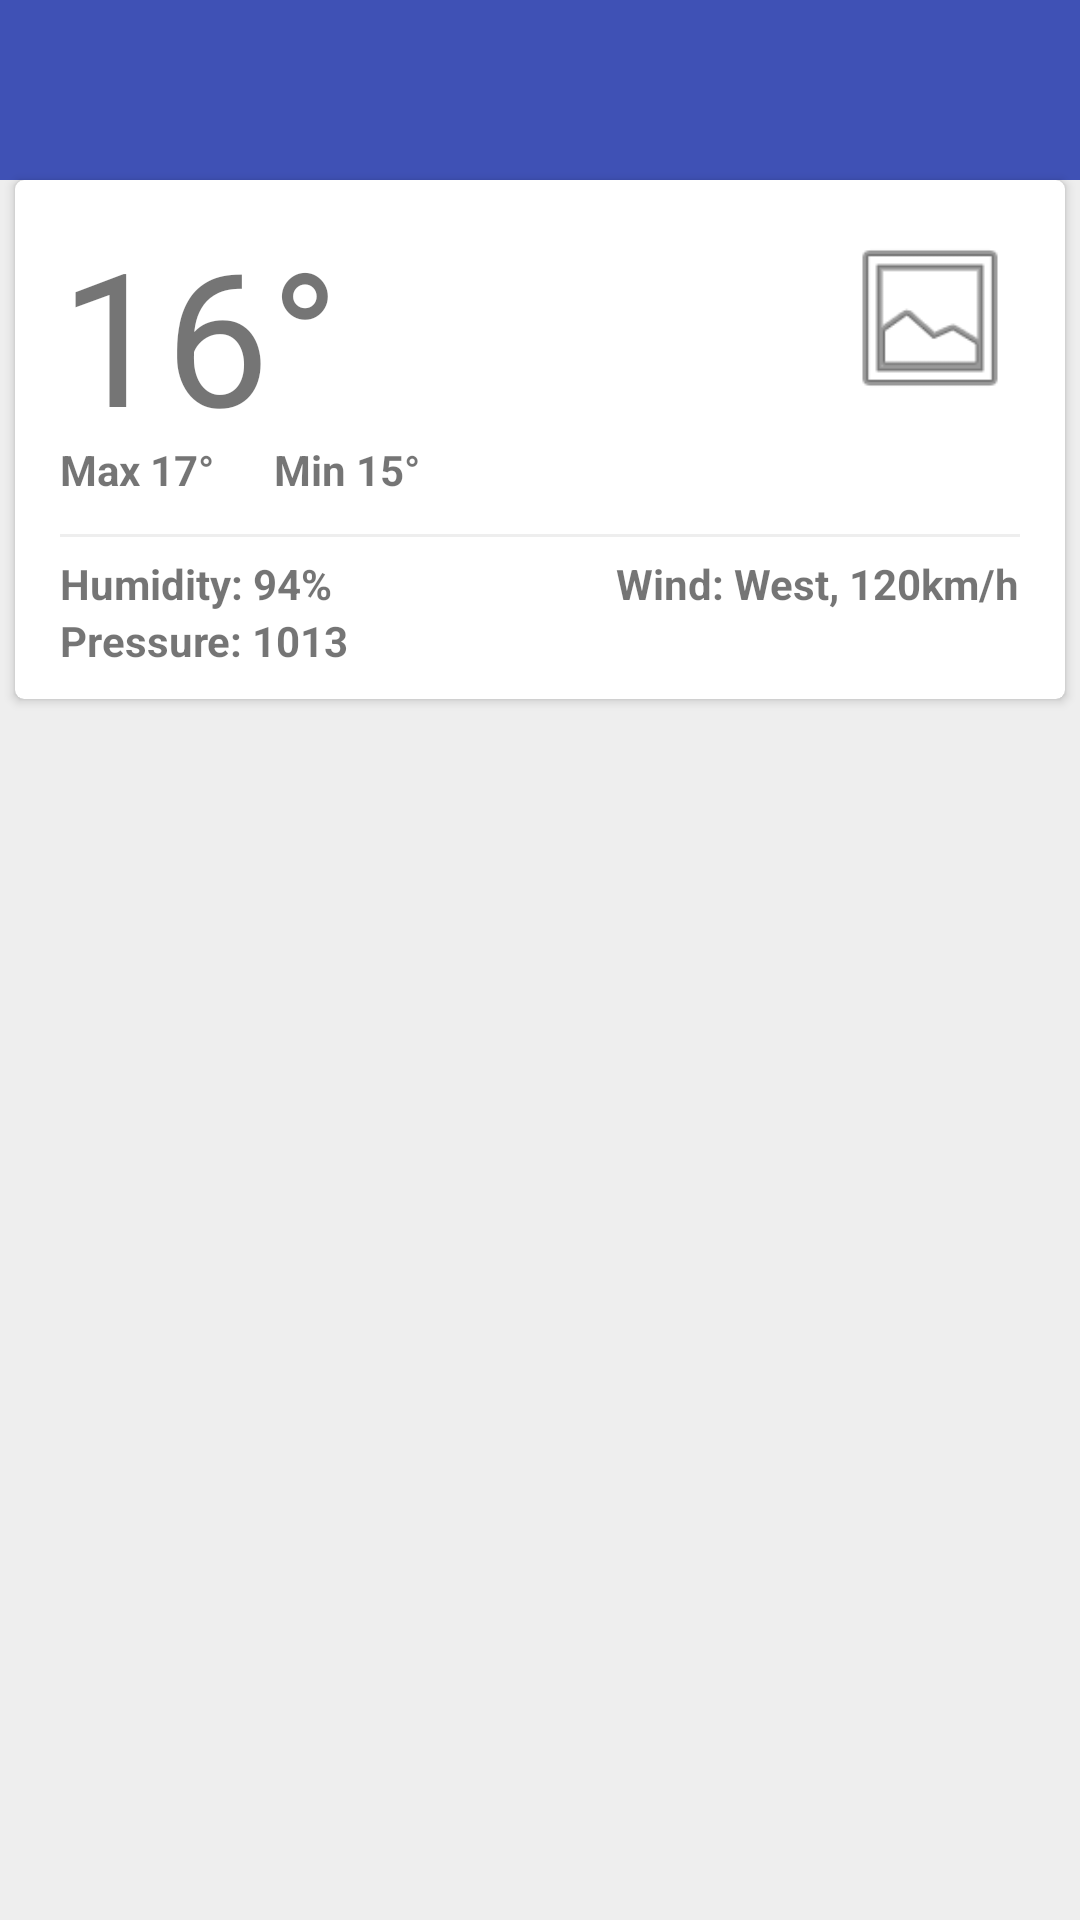

Screen size 1080px x 1920px. Icon name, then its box in pixels as BBox(x1, y1, x2, y2):
gallery: BBox(862, 250, 998, 386)
